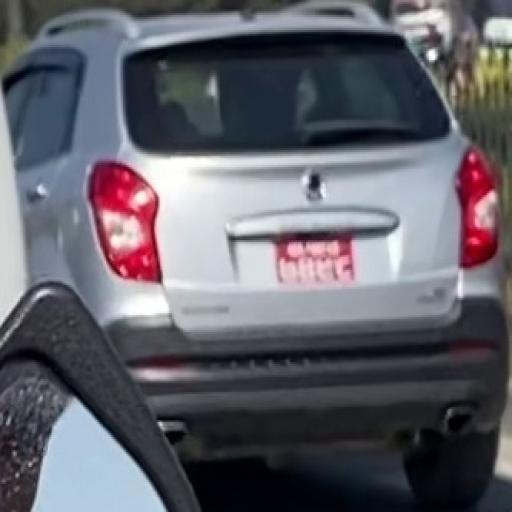license_plate: (273, 232, 358, 290)
